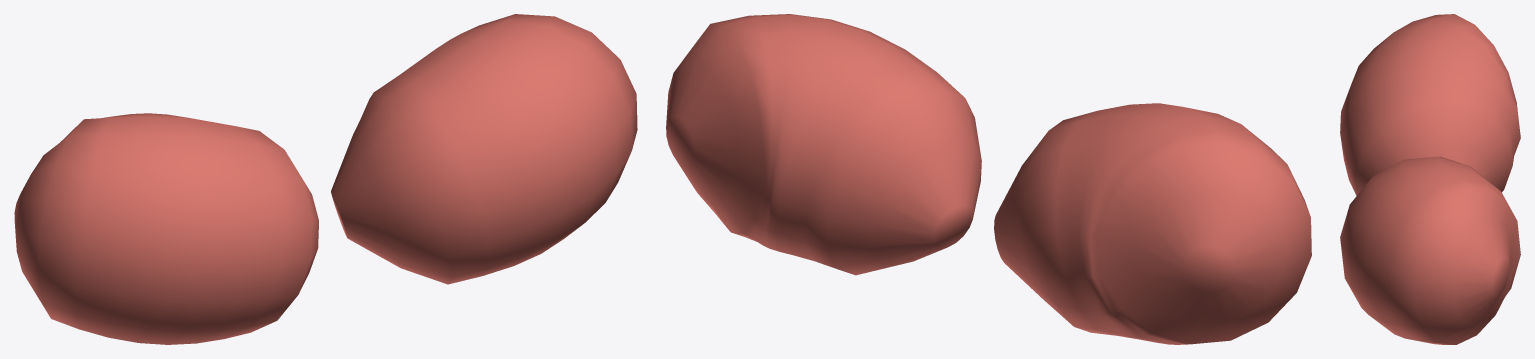
Rendered from pectoralis_major.glb.
3 views of the same model, side by side, from view 1: azimuth 30°, elevation 25°; view 2: azimuth 150°, elevation 25°; view 3: azimuth 270°, elevation 25° (orthographic). The views are drawn at different scales.
Parts seen in each view (by area): view 1: muscle_pectoralis_major_r, muscle_pectoralis_major_l; view 2: muscle_pectoralis_major_r, muscle_pectoralis_major_l; view 3: muscle_pectoralis_major_r, muscle_pectoralis_major_l.
Boxes of the visible parts, left/top/right/bottom form: muscle_pectoralis_major_r: left=331, top=14, right=637, bottom=284; muscle_pectoralis_major_l: left=14, top=113, right=318, bottom=344; muscle_pectoralis_major_r: left=666, top=14, right=981, bottom=275; muscle_pectoralis_major_l: left=994, top=103, right=1311, bottom=344; muscle_pectoralis_major_r: left=1340, top=156, right=1520, bottom=344; muscle_pectoralis_major_l: left=1340, top=14, right=1520, bottom=195.
Size of the model in its own units: 0.3759 by 0.1312 by 0.1256.
